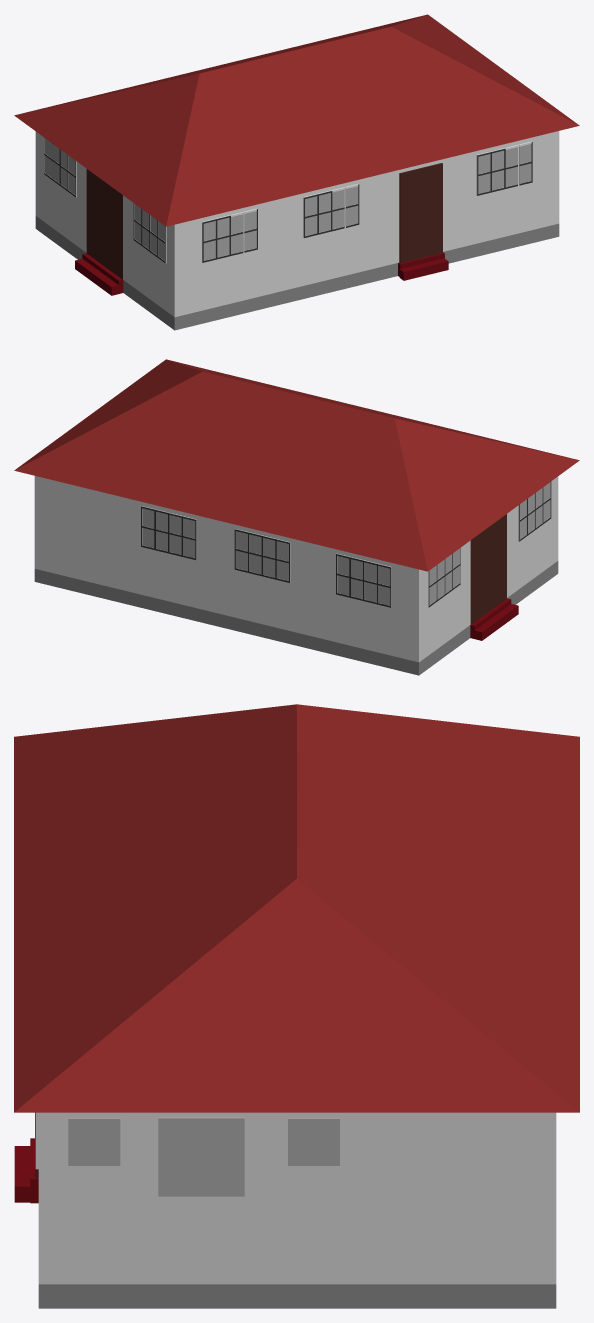
File: polca.fbx
3 views of the same model, one above another, from view 1: azimuth 30°, elevation 25°; view 2: azimuth 150°, elevation 25°; view 3: azimuth 270°, elevation 25° (orthographic). The views are drawn at different scales.
Parts seen in each view (by area): view 1: Cube.017, Cube, Cube.008, Cube.003, Cube.004, Cube.007, Cube.006, Cube.005, Cube.002, Cube.010; view 2: Cube.017, Cube, Cube.003, Cube.004, Cube.015, Cube.014, Cube.016, Cube.002; view 3: Cube.017, Cube, Cube.012, Cube.011, Cube.013, Cube.010.
Part boxes in pixels (bbox=[...]): Cube.017: bbox=[14, 14, 579, 226]; Cube: bbox=[35, 131, 559, 330]; Cube.008: bbox=[399, 163, 442, 263]; Cube.003: bbox=[86, 169, 122, 279]; Cube.004: bbox=[44, 138, 166, 263]; Cube.007: bbox=[476, 141, 532, 195]; Cube.006: bbox=[303, 183, 359, 237]; Cube.005: bbox=[202, 208, 257, 262]; Cube.002: bbox=[75, 258, 118, 295]; Cube.010: bbox=[399, 258, 448, 280]; Cube.017: bbox=[14, 359, 579, 571]; Cube: bbox=[34, 476, 558, 675]; Cube.003: bbox=[470, 514, 506, 624]; Cube.004: bbox=[428, 481, 551, 607]; Cube.015: bbox=[234, 529, 290, 582]; Cube.014: bbox=[336, 553, 391, 607]; Cube.016: bbox=[141, 506, 196, 560]; Cube.002: bbox=[474, 604, 518, 640]; Cube.017: bbox=[14, 704, 579, 1112]; Cube: bbox=[38, 1112, 556, 1308]; Cube.012: bbox=[158, 1117, 244, 1196]; Cube.011: bbox=[68, 1118, 120, 1165]; Cube.013: bbox=[288, 1118, 339, 1165]; Cube.010: bbox=[14, 1146, 30, 1202].
Size of the model in its own units: 10546 by 4461 by 6713.
